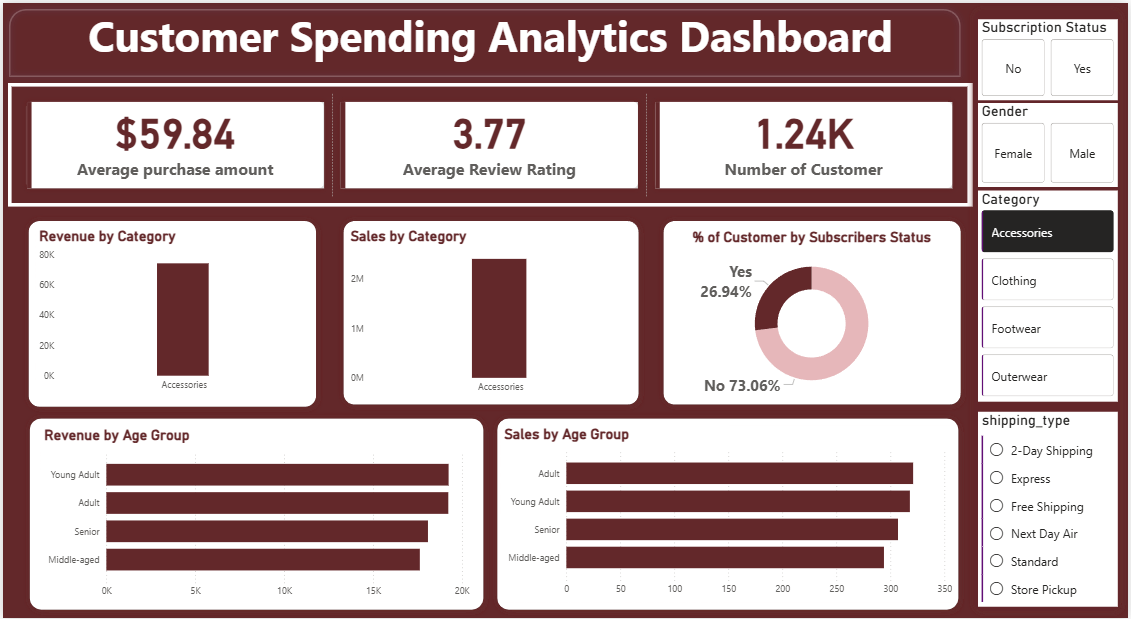

The page's visual inventory and layout, read from the dashboard file:
{"tool":"powerbi","page":{"name":"Page 1","canvas":[1500,820],"ordinal":0},"visuals":[{"type":"cardVisual","fields":{"Data":["customer_behavior customer.Average purchase amount","customer_behavior customer.Average Review Rating","customer_behavior customer.Number of Customer"]},"box":[6.7,106.7,1286.7,165],"z":0},{"type":"shape","box":[0,0,1285,106.7],"z":1000},{"type":"textbox","box":[6.7,0,1286.7,106.7],"z":2000},{"type":"shape","box":[25.7,281.4,401.4,265.7],"z":3000},{"type":"shape","box":[871.4,281.4,414.3,262.9],"z":4000},{"type":"donutChart","title":"% of Customer by Subscribers Status","fields":{"Category":["customer_behavior customer.subscription_status"],"Y":["CountNonNull(customer_behavior customer.customer_id)"]},"box":[892.9,301.4,370,230],"z":5000},{"type":"shape","box":[444.3,281.4,411.4,262.9],"z":6000},{"type":"clusteredColumnChart","title":"Revenue by Category","fields":{"Y":["Sum(customer_behavior customer.purchase_amount)"],"Category":["customer_behavior customer.category"]},"box":[42.9,300,367.1,227.1],"z":7000},{"type":"clusteredColumnChart","title":"Sales by Category","fields":{"Y":["Sum(customer_behavior customer.customer_id)"],"Category":["customer_behavior customer.category"]},"box":[458.6,300,382.9,230],"z":8000},{"type":"shape","box":[1285.7,0,214.3,820],"z":9000},{"type":"advancedSlicerVisual","fields":{"Values":["customer_behavior customer.category"]},"box":[1300,250,186.7,281.7],"z":10000},{"type":"listSlicer","fields":{"Values":["customer_behavior customer.shipping_type"]},"box":[1300,545,186.7,260],"z":11000},{"type":"shape","box":[650,544.3,632.9,272.9],"z":12000},{"type":"clusteredBarChart","title":"Sales by Age Group","fields":{"Y":["CountNonNull(customer_behavior customer.customer_id)"],"Category":["customer_behavior customer.age_group"]},"box":[662.9,562.9,607.1,235.7],"z":13000},{"type":"shape","box":[27.1,544.3,622.9,272.9],"z":14000},{"type":"clusteredBarChart","title":"Revenue by Age Group","fields":{"Y":["Sum(customer_behavior customer.purchase_amount)"],"Category":["customer_behavior customer.age_group"]},"box":[50,564.3,577.1,237.1],"z":15000},{"type":"advancedSlicerVisual","title":"Gender","fields":{"Values":["customer_behavior customer.gender"]},"box":[1300,133.3,186.7,111.7],"z":16000},{"type":"advancedSlicerVisual","title":"Subscription Status","fields":{"Values":["customer_behavior customer.subscription_status"]},"box":[1300,21.7,186.7,108.3],"z":17000}]}

Visuals, with their boxes in screenshot pixels (x1, y1, x2, y2), scaled from the page's 1500x820 canvas onto the 1131x619 screenshot:
cardVisual - customer_behavior customer.Average purchase amount x customer_behavior customer.Average Review Rating: pyautogui.locateOnScreen(5, 81, 975, 205)
shape: pyautogui.locateOnScreen(0, 0, 969, 81)
textbox: pyautogui.locateOnScreen(5, 0, 975, 81)
shape: pyautogui.locateOnScreen(19, 212, 322, 413)
shape: pyautogui.locateOnScreen(657, 212, 969, 411)
"% of Customer by Subscribers Status" donutChart: pyautogui.locateOnScreen(673, 228, 952, 401)
shape: pyautogui.locateOnScreen(335, 212, 645, 411)
"Revenue by Category" clusteredColumnChart: pyautogui.locateOnScreen(32, 226, 309, 398)
"Sales by Category" clusteredColumnChart: pyautogui.locateOnScreen(346, 226, 634, 400)
shape: pyautogui.locateOnScreen(969, 0, 1130, 618)
advancedSlicerVisual - customer_behavior customer.category: pyautogui.locateOnScreen(980, 189, 1121, 401)
listSlicer - customer_behavior customer.shipping_type: pyautogui.locateOnScreen(980, 411, 1121, 608)
shape: pyautogui.locateOnScreen(490, 411, 967, 617)
"Sales by Age Group" clusteredBarChart: pyautogui.locateOnScreen(500, 425, 958, 603)
shape: pyautogui.locateOnScreen(20, 411, 490, 617)
"Revenue by Age Group" clusteredBarChart: pyautogui.locateOnScreen(38, 426, 473, 605)
"Gender" advancedSlicerVisual: pyautogui.locateOnScreen(980, 101, 1121, 185)
"Subscription Status" advancedSlicerVisual: pyautogui.locateOnScreen(980, 16, 1121, 98)
